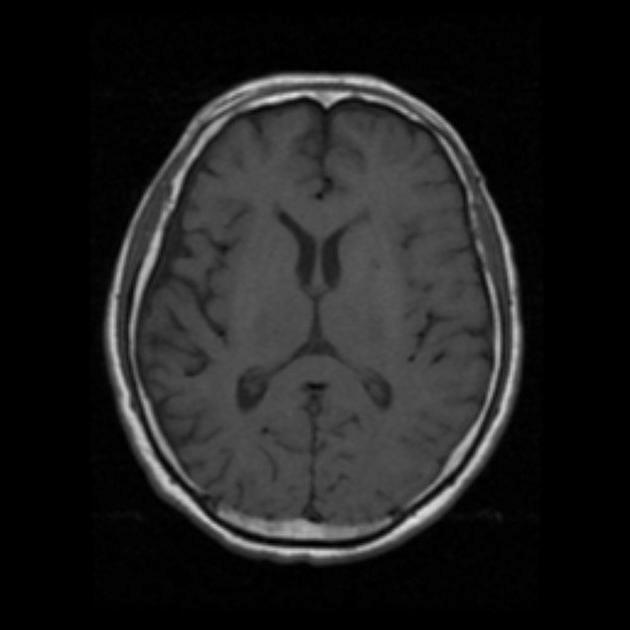Normal_Brain: (56, 1, 612, 630)
